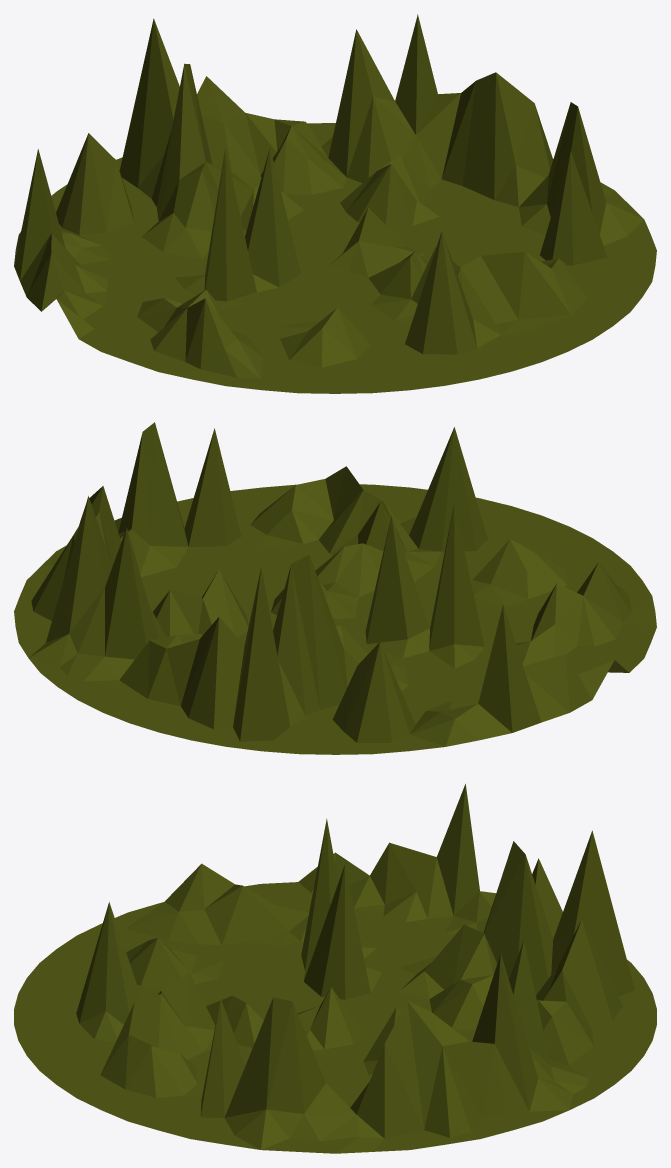
Rendered from thorn_lava.FBX.
3 views of the same model, one above another, from view 1: azimuth 30°, elevation 25°; view 2: azimuth 150°, elevation 25°; view 3: azimuth 270°, elevation 25° (orthographic).
Visible parts, largest first — view 1: Circle001; view 2: Circle001; view 3: Circle001.
Part boxes in pixels (x1,y1,x2,y2): Circle001: (14,14,656,393); Circle001: (14,422,656,754); Circle001: (14,784,656,1153).
Bounding box in the file's own units: 28.67 × 7.84 × 28.48.
